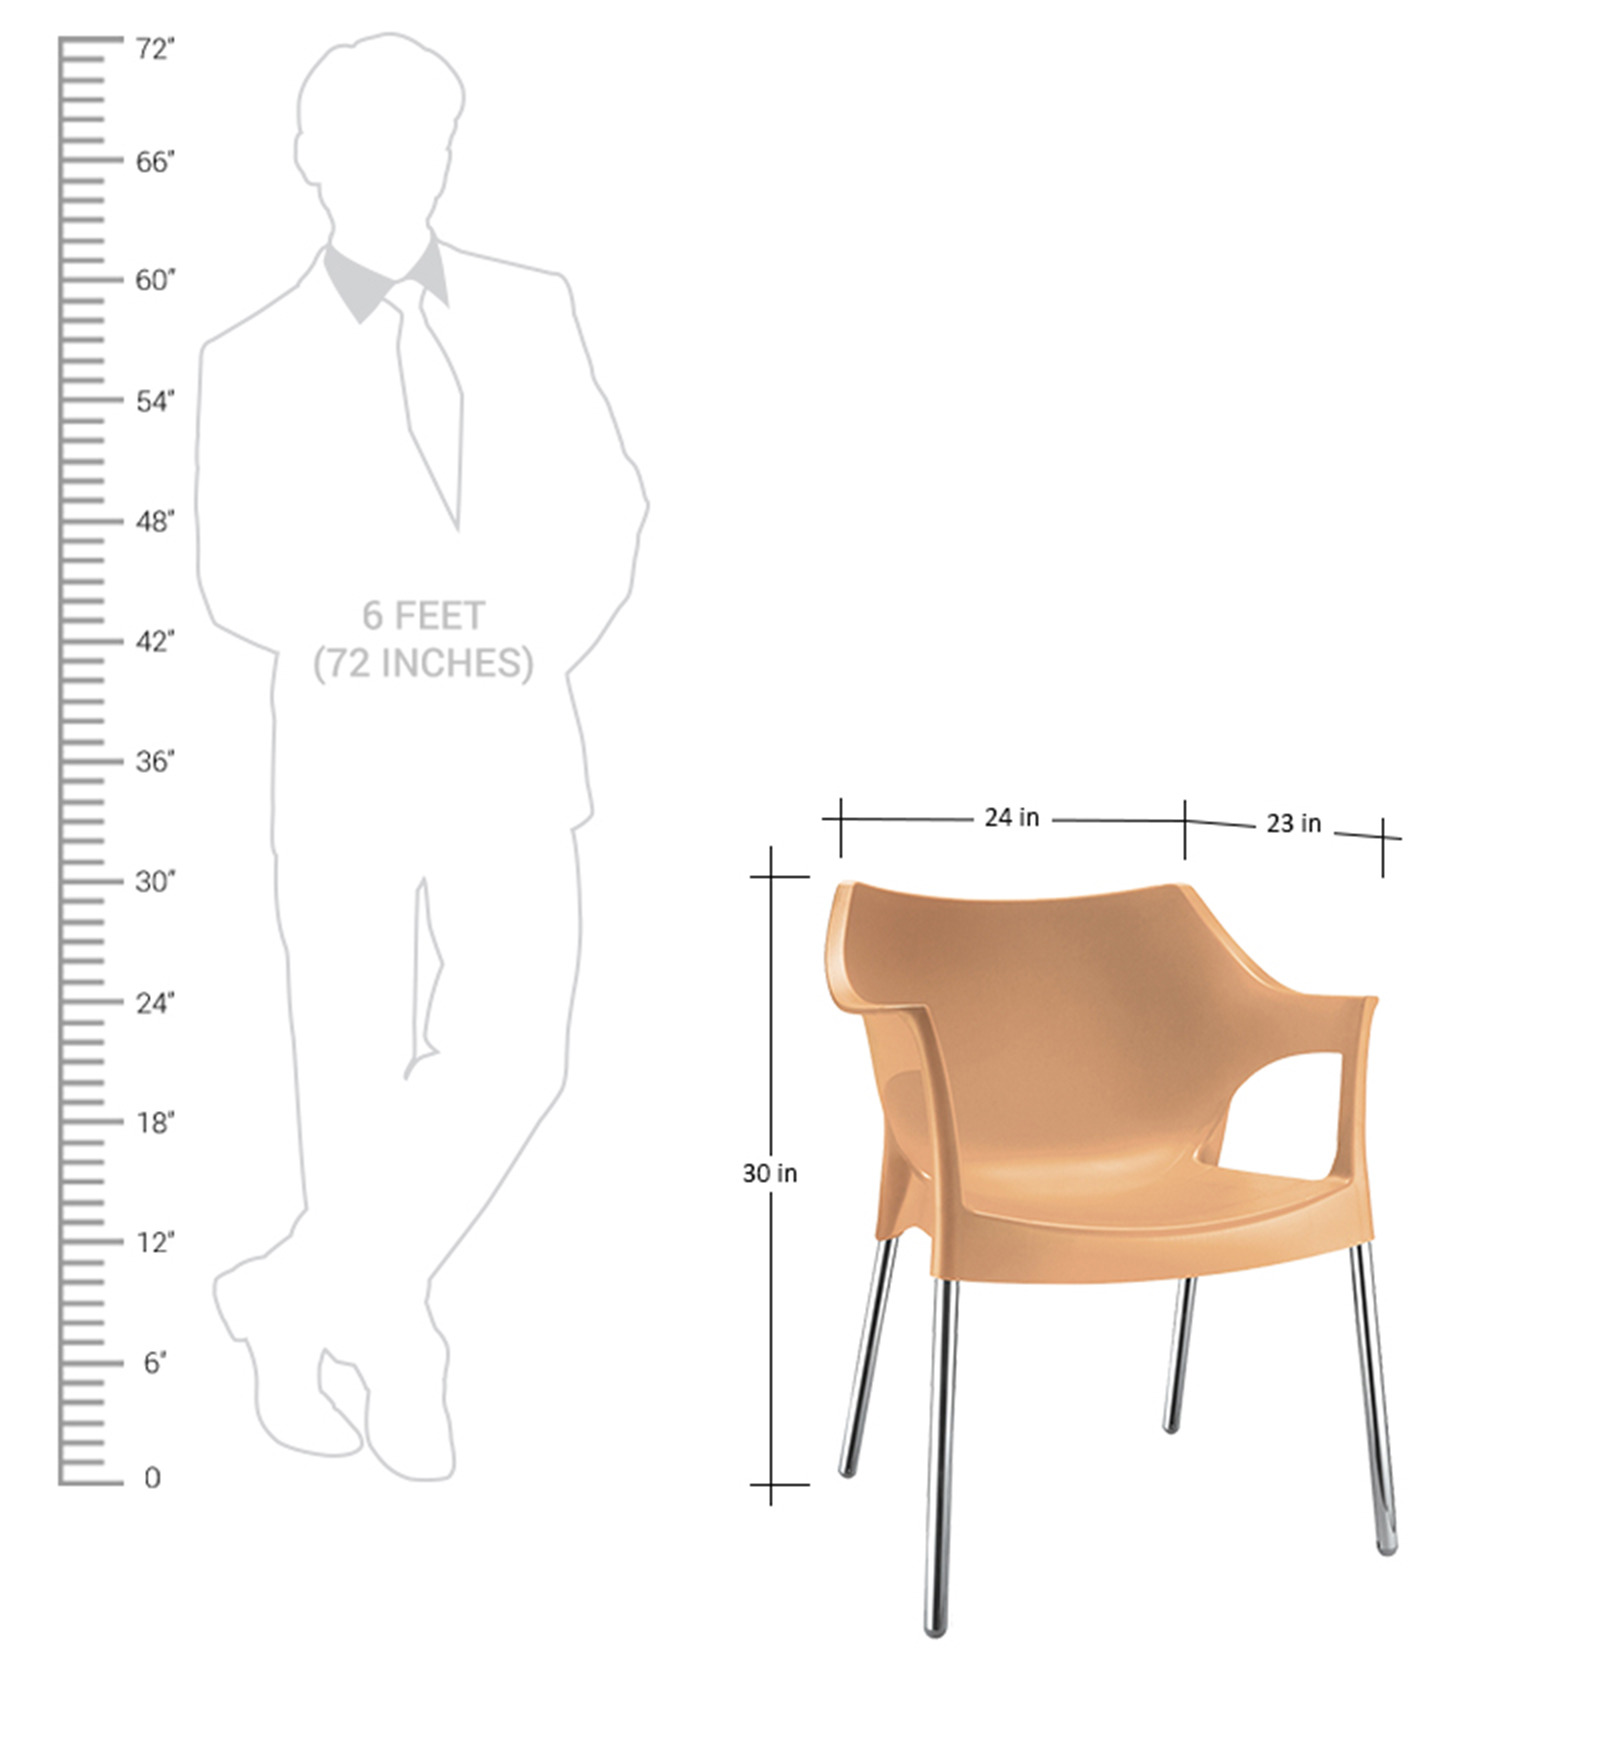Novella Chair in Beige Colour by Nilkamal: (815, 872, 1396, 1633)
